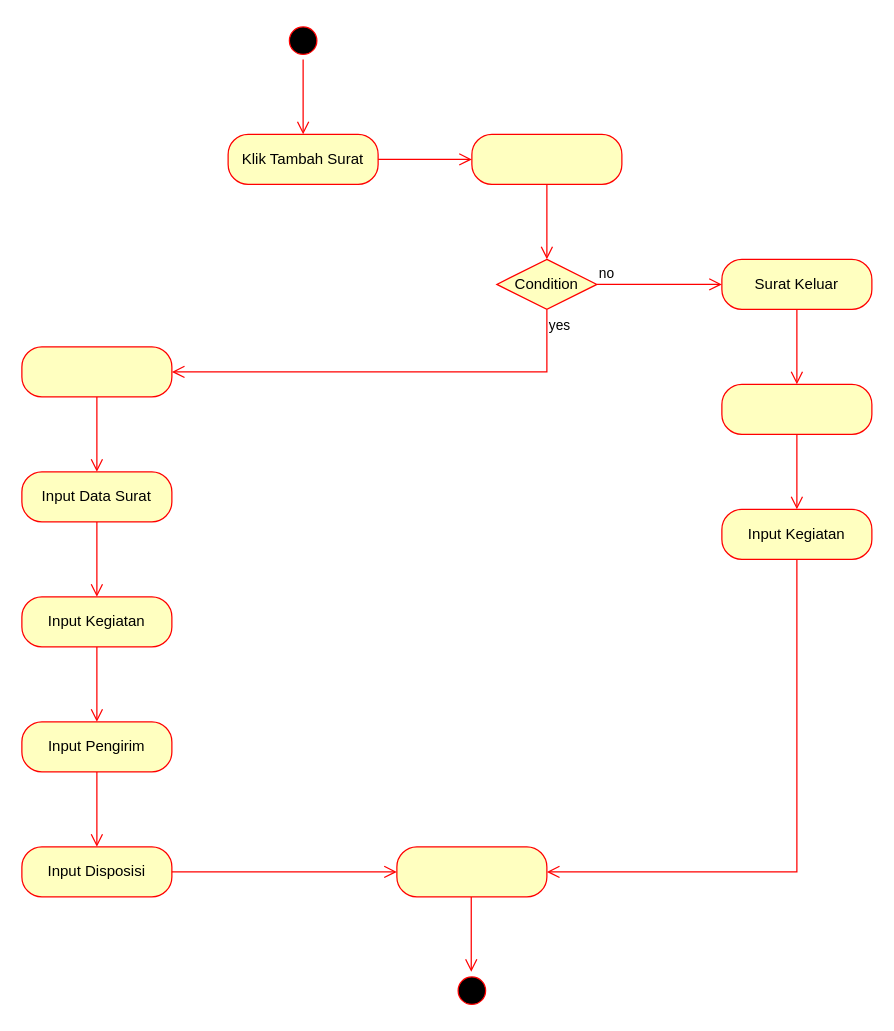
This 894x1031 diagram has some shape labels left out. Here are the shapes that lost their labels. From the top down, the centre of each, then its label:
At pixel 546 158: "Surat Masuk".
At pixel 96 371: "Input Jenis Surat".
At pixel 796 408: "Surat Disampaikan Kepada".
At pixel 471 871: "Upload File Surat".
